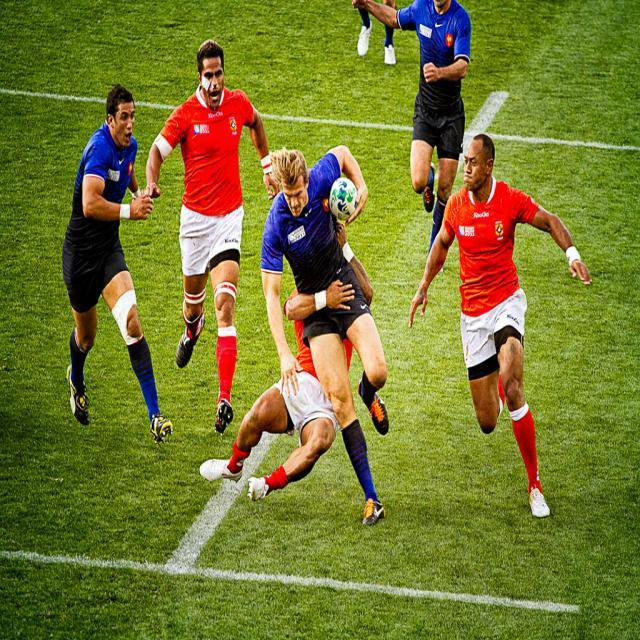football: (322, 179, 369, 232)
